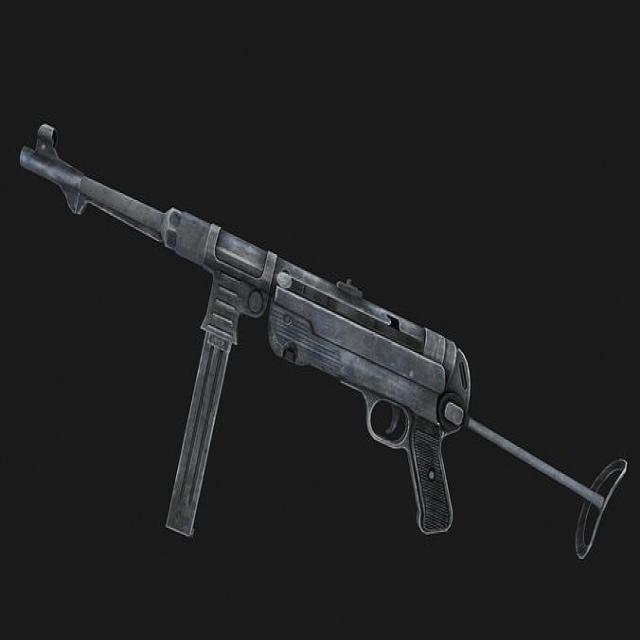SMG: (19, 125, 631, 562)
